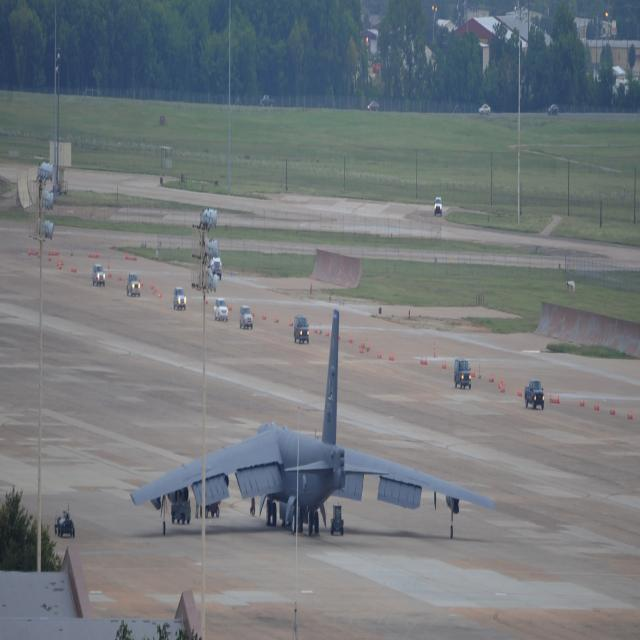MIL_Plane: (0, 306, 304, 538)
